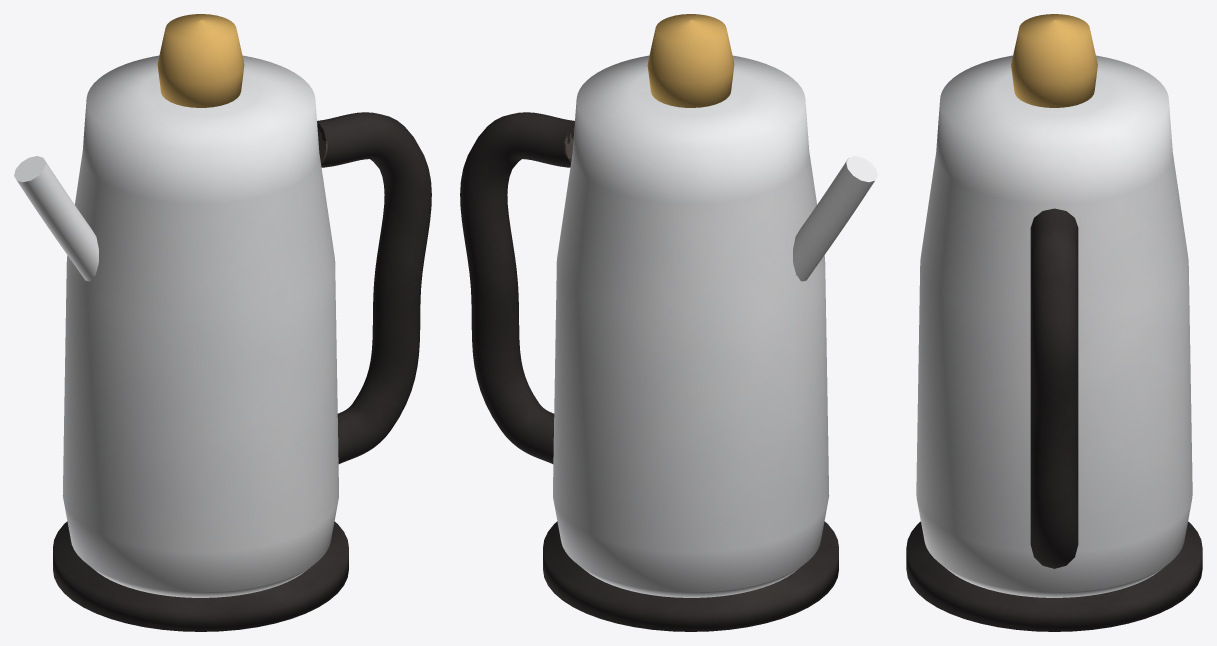
Rendered from np_percolator_1k.fbx.
The picture shows the model from 3 angles, left to right: view 1: azimuth 30°, elevation 25°; view 2: azimuth 150°, elevation 25°; view 3: azimuth 270°, elevation 25°; orthographic projection.
Visible parts, largest first — view 1: np_percolator; view 2: np_percolator; view 3: np_percolator.
Part boxes in pixels (x1,y1,x2,y2): np_percolator: [14, 14, 431, 631]; np_percolator: [460, 14, 877, 631]; np_percolator: [906, 14, 1202, 631].
Size of the model in its own units: 0.2409 by 0.307 by 0.15.
1 material, 1 textured.
